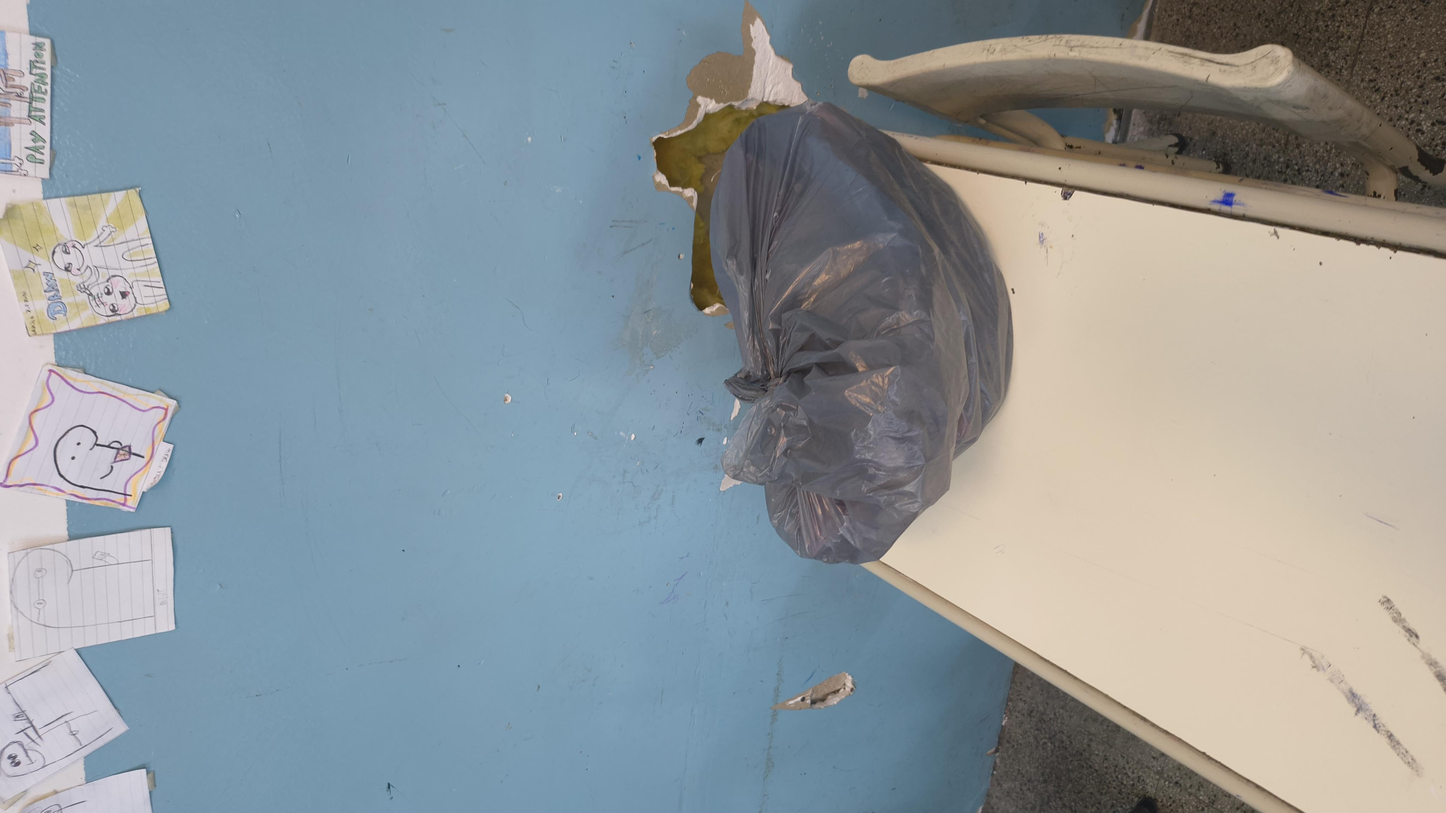Garbage: (383, 367, 1331, 591)
